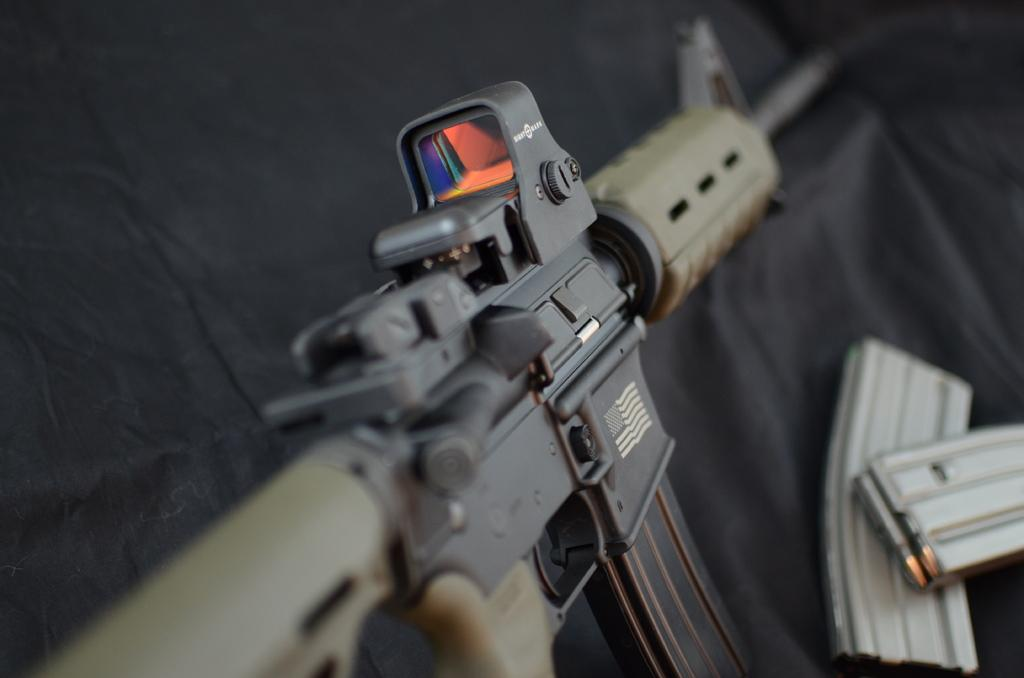Rifle: (28, 41, 838, 677)
